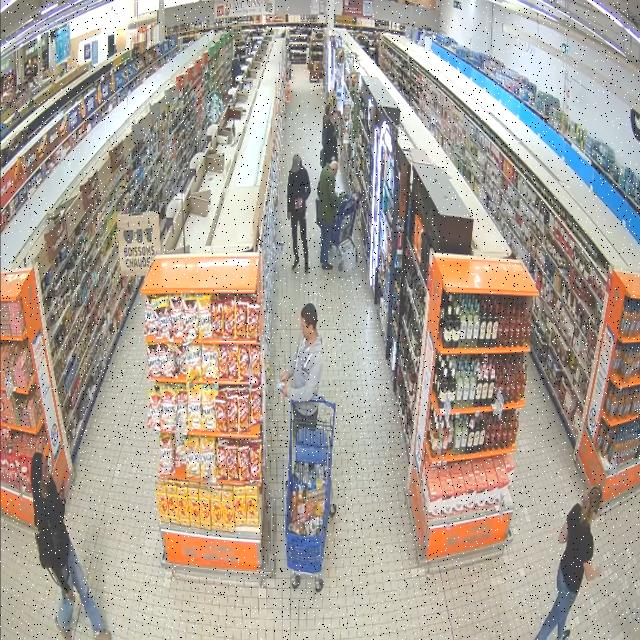article: (276, 379, 286, 390), (295, 196, 300, 209)
bags: (35, 527, 67, 569)
hands: (59, 480, 65, 501), (66, 589, 75, 602), (280, 371, 289, 383), (281, 382, 288, 397), (595, 566, 601, 577), (298, 198, 302, 209), (287, 211, 290, 219)
person: (31, 453, 111, 639), (536, 486, 602, 639), (280, 303, 322, 428), (287, 155, 311, 273), (318, 161, 341, 270), (322, 109, 339, 165), (323, 104, 331, 130)
